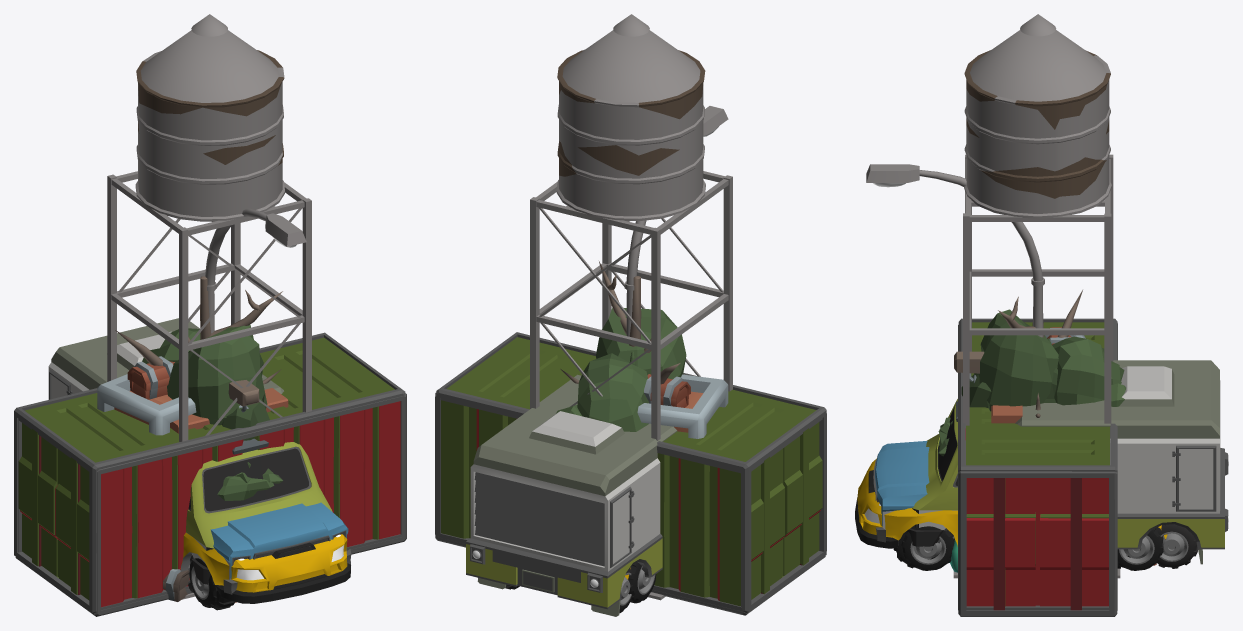
The model's file is cenario.glb.
3 renders of one model, left to right at view 1: azimuth 30°, elevation 25°; view 2: azimuth 150°, elevation 25°; view 3: azimuth 270°, elevation 25°, orthographic.
Parts seen in each view (by area): view 1: WaterTower, Container_Green, Container_Red, Truck, Sports, BirchTree_2_Cube.064, Pickup, box_stacked, StreetLights, tree_dead_large, CommonTree_1_Cube.049, FrontWheel_R (+3 smaller); view 2: Container_Green, WaterTower, Truck, BirchTree_1_Cube, box_stacked, Container_Red, BirchTree_2_Cube.064, StreetLights, tree_dead_large, BackWheels; view 3: WaterTower, Truck, Container_Red, Container_Green, BirchTree_2_Cube.064, BirchTree_1_Cube, Pickup, Sports, StreetLights, BackWheels (×2), FrontWheel_L, tree_dead_large (+1 smaller).
Boxes of the visible parts, bbox=[...] form: WaterTower: bbox=[107, 14, 311, 599]; Container_Green: bbox=[14, 332, 405, 613]; Container_Red: bbox=[15, 393, 406, 616]; Truck: bbox=[48, 318, 332, 584]; Sports: bbox=[180, 533, 350, 603]; BirchTree_2_Cube.064: bbox=[167, 325, 269, 440]; Pickup: bbox=[210, 502, 351, 594]; box_stacked: bbox=[97, 356, 196, 601]; StreetLights: bbox=[205, 208, 306, 333]; tree_dead_large: bbox=[115, 276, 282, 365]; CommonTree_1_Cube.049: bbox=[217, 476, 274, 500]; FrontWheel_R: bbox=[189, 558, 217, 607]; Container_Green: bbox=[436, 332, 826, 612]; WaterTower: bbox=[530, 14, 732, 600]; Truck: bbox=[466, 374, 677, 616]; BirchTree_1_Cube: bbox=[556, 353, 648, 431]; box_stacked: bbox=[637, 374, 728, 438]; Container_Red: bbox=[435, 393, 825, 615]; BirchTree_2_Cube.064: bbox=[596, 308, 686, 379]; StreetLights: bbox=[624, 106, 728, 336]; tree_dead_large: bbox=[599, 261, 680, 384]; BackWheels: bbox=[628, 562, 656, 603]; WaterTower: bbox=[953, 14, 1120, 578]; Truck: bbox=[906, 360, 1228, 564]; Container_Red: bbox=[958, 325, 1117, 616]; Container_Green: bbox=[958, 318, 1117, 610]; BirchTree_2_Cube.064: bbox=[961, 309, 1058, 411]; BirchTree_1_Cube: bbox=[1052, 336, 1125, 406]; Pickup: bbox=[873, 441, 929, 542]; Sports: bbox=[855, 458, 1167, 548]; StreetLights: bbox=[866, 164, 1044, 337]; BackWheels (×2): bbox=[1117, 524, 1197, 570]; FrontWheel_L: bbox=[901, 524, 954, 570]; tree_dead_large: bbox=[998, 290, 1082, 337].
Size of the model in its own units: 5.73 by 9.74 by 6.
18 materials, 5 textured.
